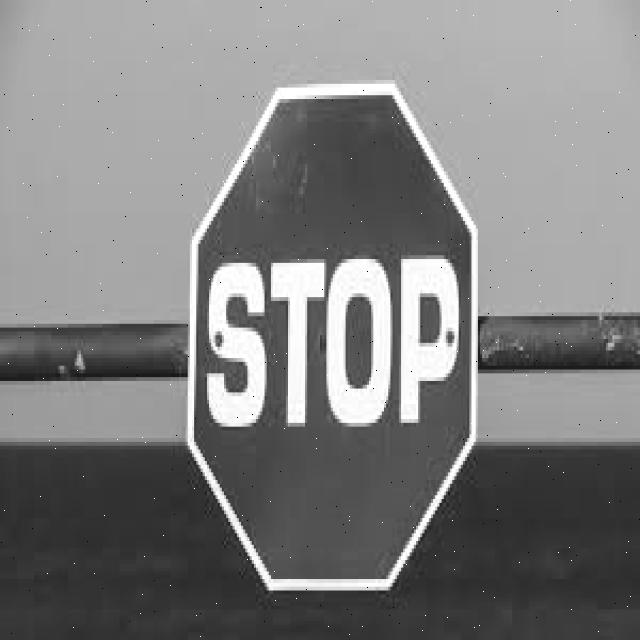stop sign: (194, 84, 478, 595)
